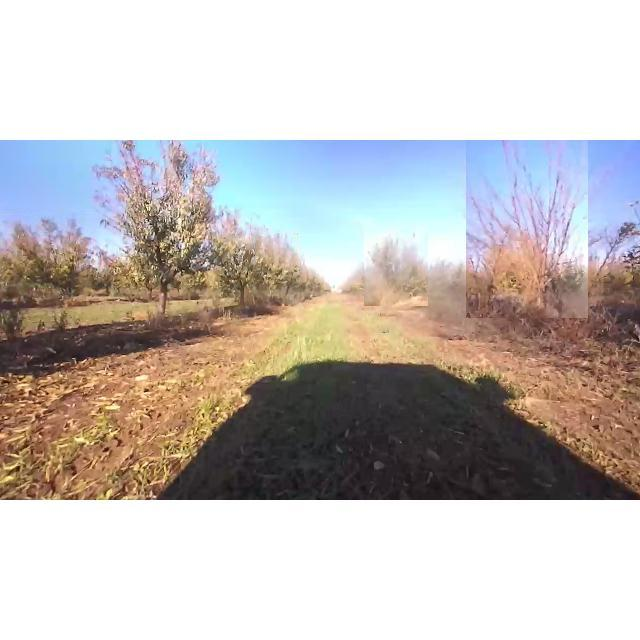direk: (93, 142, 231, 322), (466, 140, 588, 318), (2, 214, 96, 296), (208, 220, 270, 310), (364, 226, 428, 306), (254, 234, 298, 304)
